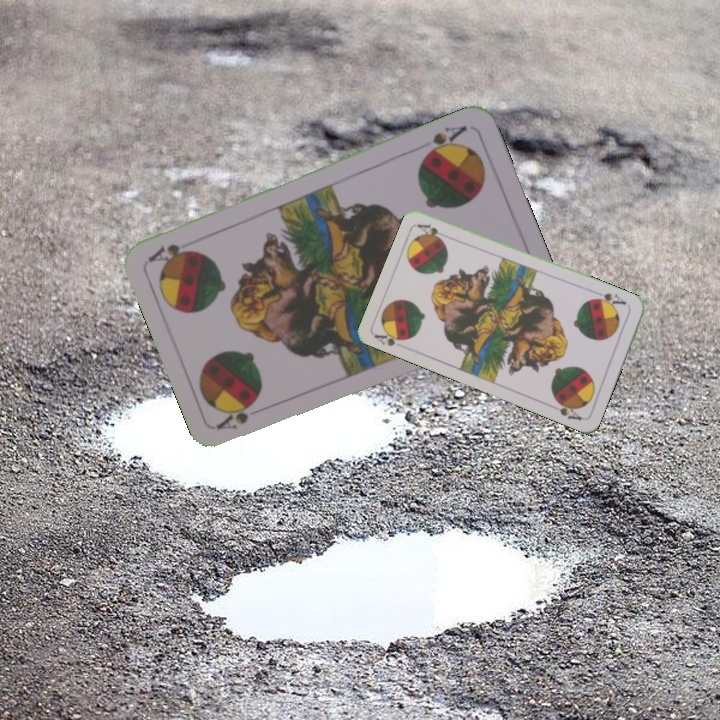SA: (419, 121, 470, 160), (214, 399, 259, 432), (370, 325, 411, 349), (590, 288, 629, 311)
